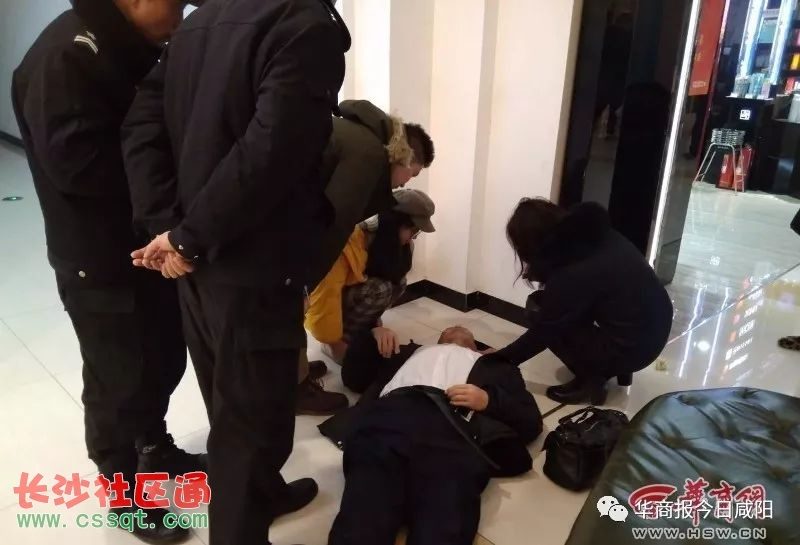falling: (313, 302, 553, 543)
